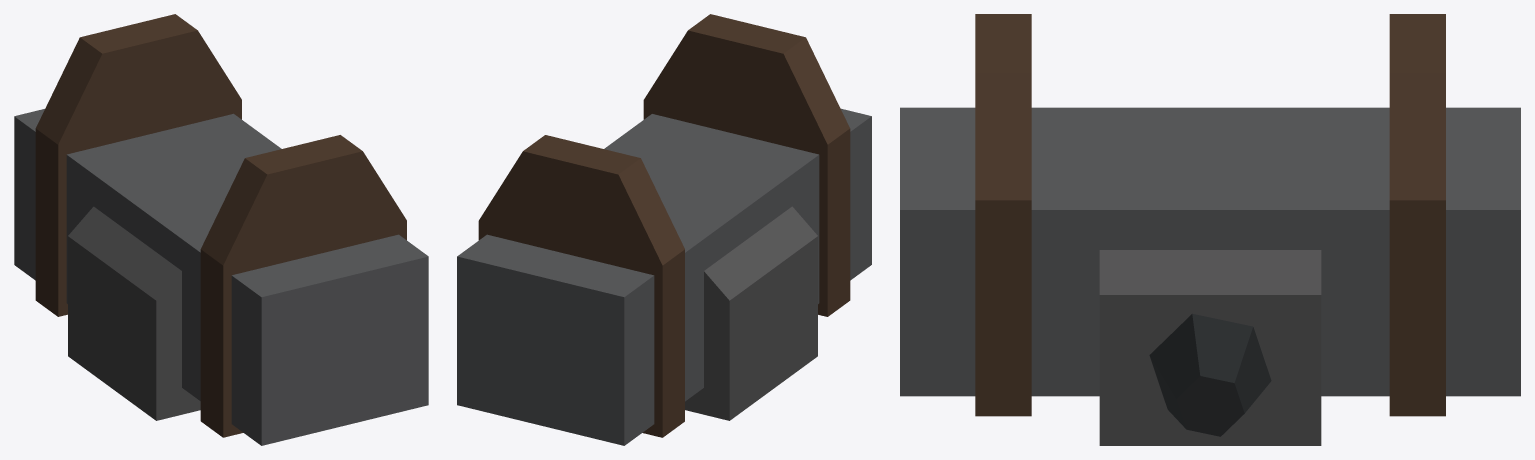
Rendered from SM_Prop_PowerBox_06.glb.
3 views of the same model, side by side, from view 1: azimuth 30°, elevation 25°; view 2: azimuth 150°, elevation 25°; view 3: azimuth 270°, elevation 25° (orthographic). The views are drawn at different scales.
Parts seen in each view (by area): view 1: SM_Prop_PowerBox_06; view 2: SM_Prop_PowerBox_06; view 3: SM_Prop_PowerBox_06.
Part boxes in pixels (x1,y1,x2,y2): SM_Prop_PowerBox_06: [14, 14, 428, 445]; SM_Prop_PowerBox_06: [457, 14, 871, 445]; SM_Prop_PowerBox_06: [900, 14, 1520, 445].
Size of the model in its own units: 0.2249 by 0.2044 by 0.3425.
Materials: 1 (1 with a texture image).
